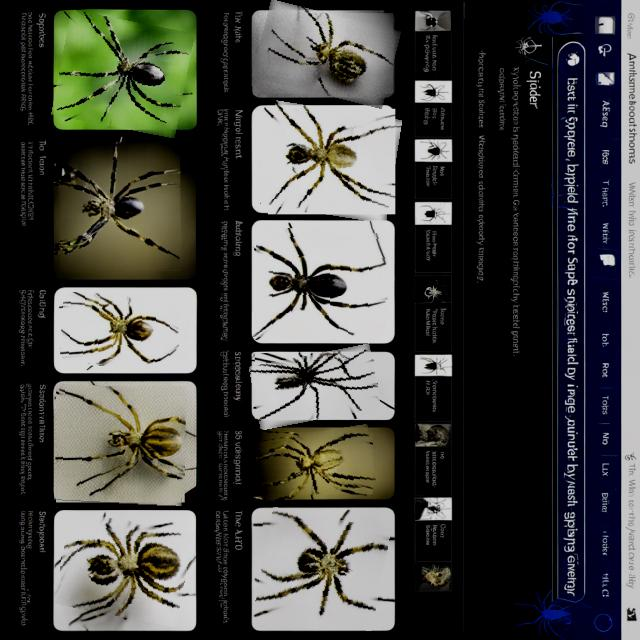spider: (58, 141, 180, 273), (54, 14, 190, 132), (54, 384, 185, 504), (262, 104, 398, 218), (252, 228, 388, 342), (258, 512, 386, 626), (56, 516, 188, 622), (254, 7, 396, 102), (250, 348, 378, 424), (60, 294, 179, 368), (254, 428, 374, 498)
